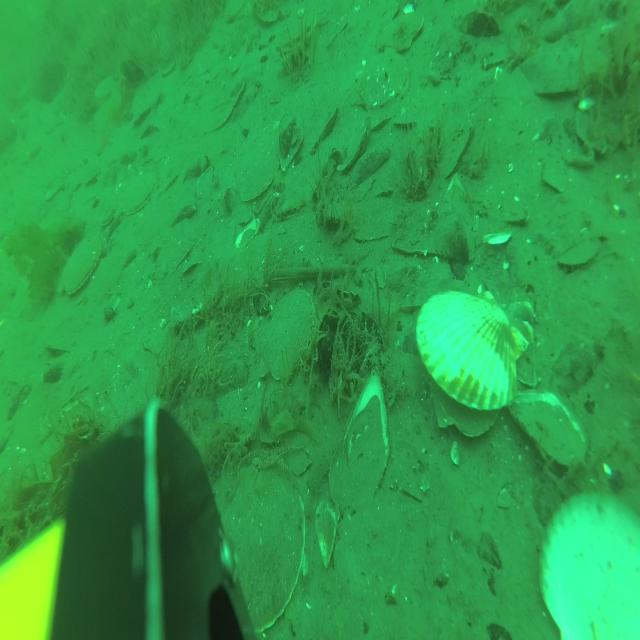scallop: (419, 281, 528, 431), (257, 287, 320, 383), (355, 51, 412, 112), (61, 232, 102, 302), (238, 155, 281, 207), (383, 11, 427, 57), (559, 233, 603, 272), (119, 169, 157, 214), (335, 120, 367, 169), (128, 85, 162, 124), (312, 105, 338, 149), (92, 199, 116, 234), (394, 99, 418, 134), (371, 102, 392, 128)
